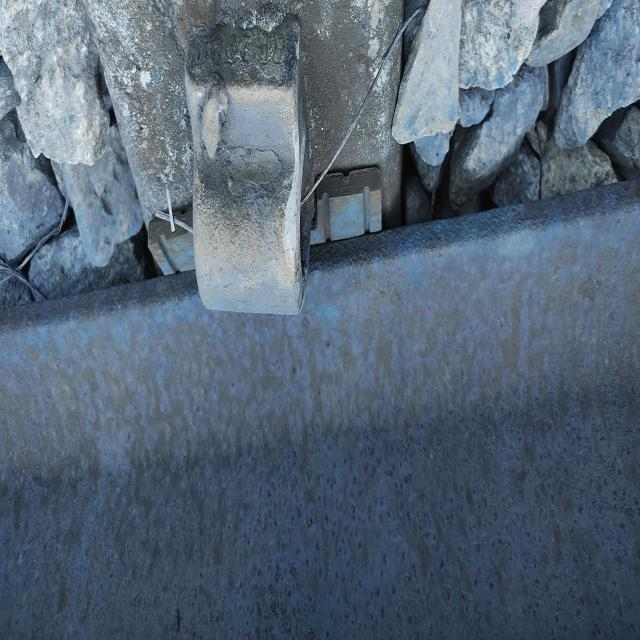Missing Fastener: (184, 0, 315, 315)
